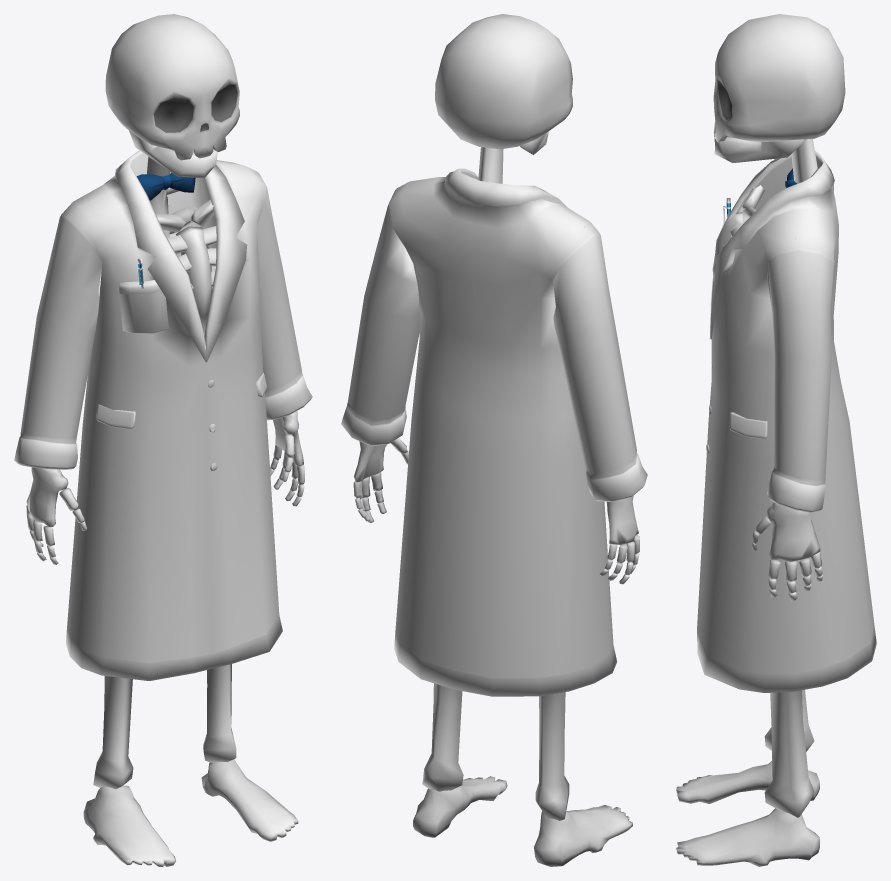
The model's file is CR_sci_Skeleton.FBX.
3 views of the same model, side by side, from view 1: azimuth 30°, elevation 25°; view 2: azimuth 150°, elevation 25°; view 3: azimuth 270°, elevation 25° (orthographic). The views are drawn at different scales.
Visible parts, largest first — view 1: CR_sci_Skeleton; view 2: CR_sci_Skeleton; view 3: CR_sci_Skeleton.
Part boxes in pixels (bbox=[...]): CR_sci_Skeleton: bbox=[14, 14, 312, 866]; CR_sci_Skeleton: bbox=[341, 14, 647, 866]; CR_sci_Skeleton: bbox=[676, 14, 876, 866].
Size of the model in its own units: 47.78 by 28.18 by 125.
